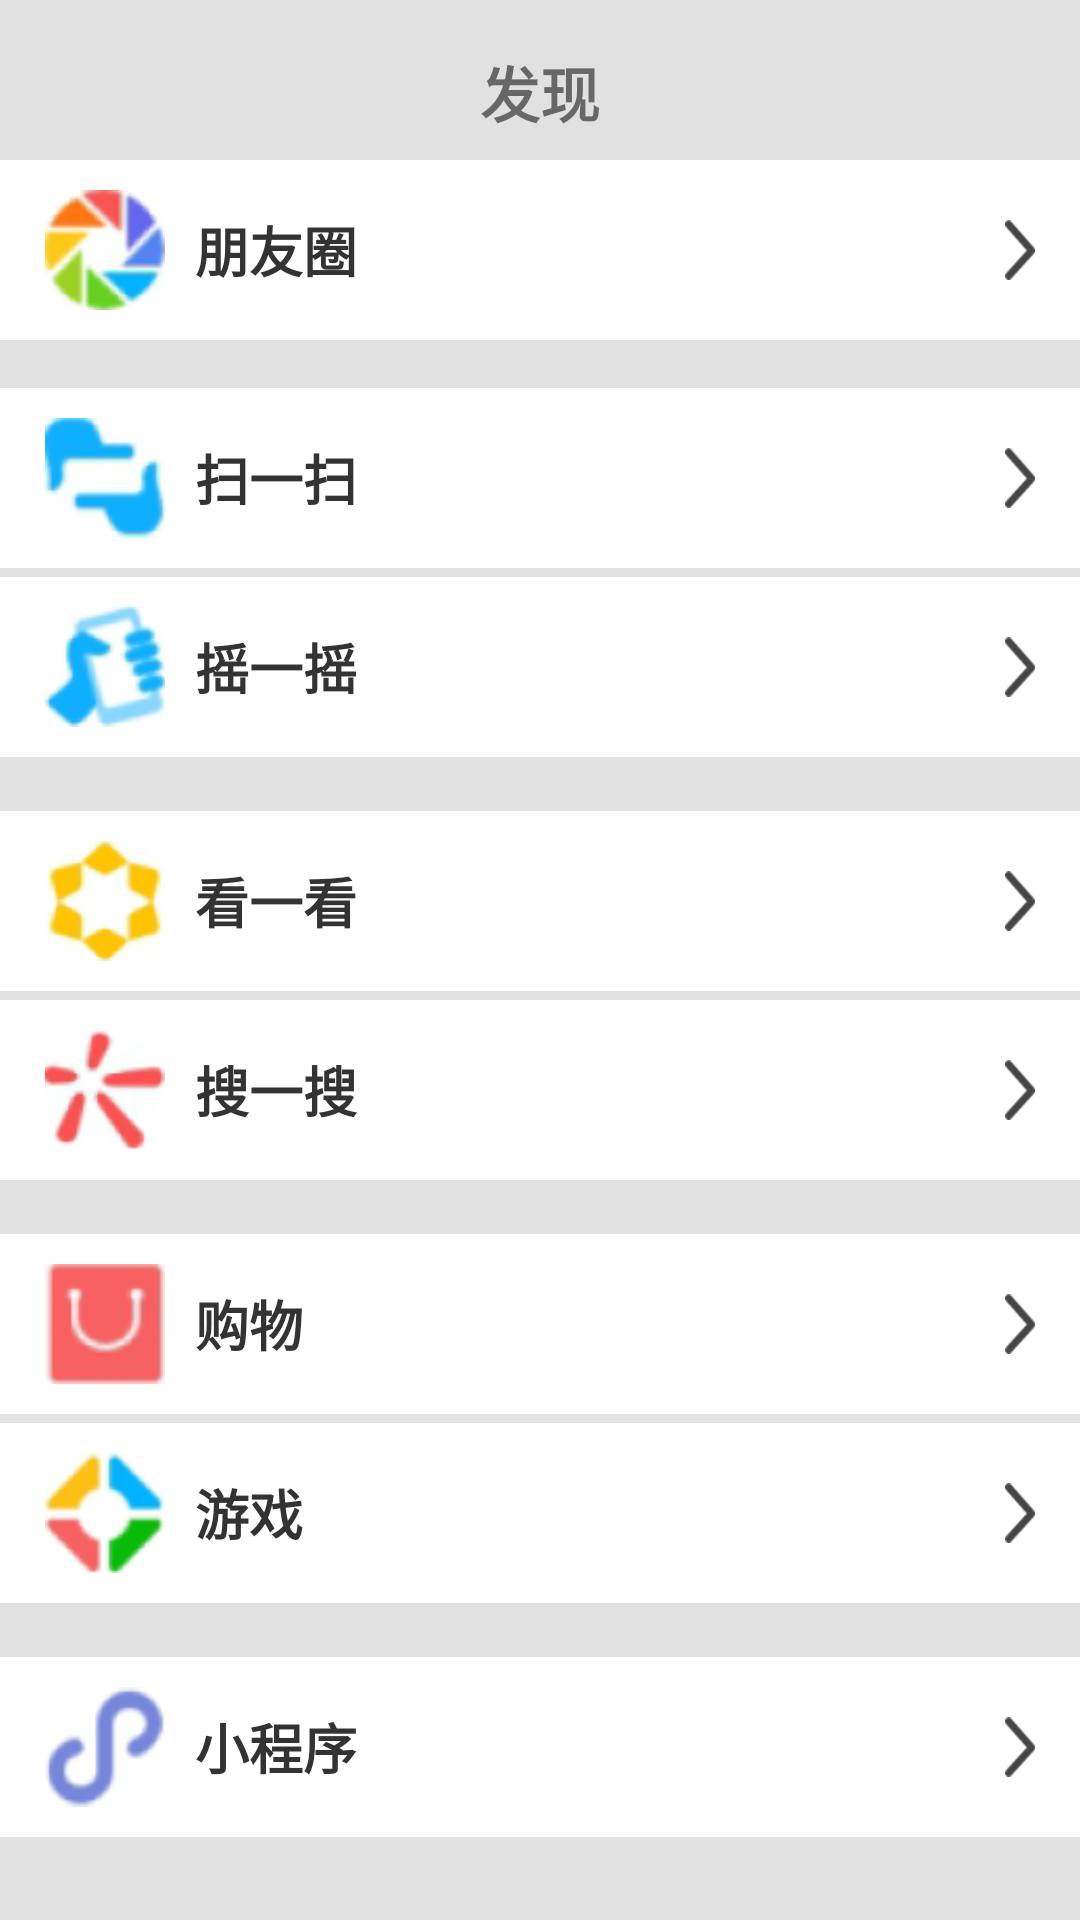

Named icons in this screenshot (1080px x 1920px) and their bounding boxes, (x1, y1, x2, y2):
right: (1005, 220, 1035, 280), (1005, 448, 1035, 508), (1005, 637, 1035, 697), (1005, 871, 1035, 931), (1005, 1060, 1035, 1120), (1005, 1294, 1035, 1354), (1005, 1483, 1035, 1543), (1005, 1717, 1035, 1777)
